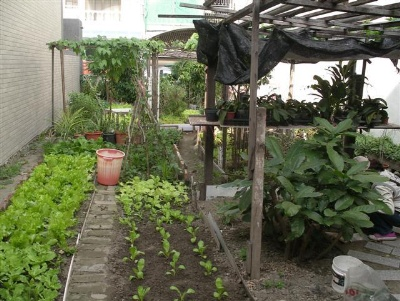bucket: (331, 253, 365, 294), (94, 148, 125, 186)
